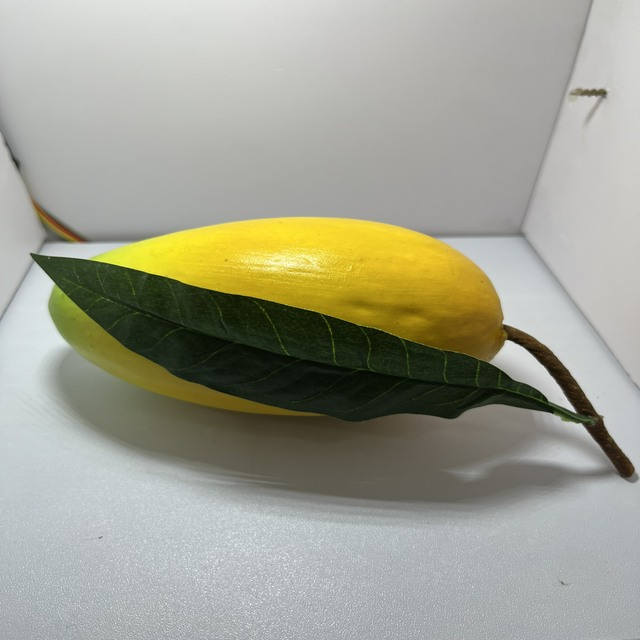Xoai: (41, 208, 520, 424)
